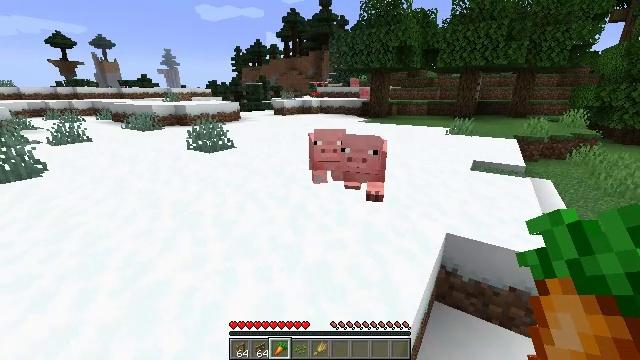pig: (341, 134, 387, 202), (309, 128, 346, 184), (359, 88, 371, 100), (350, 78, 360, 87)
